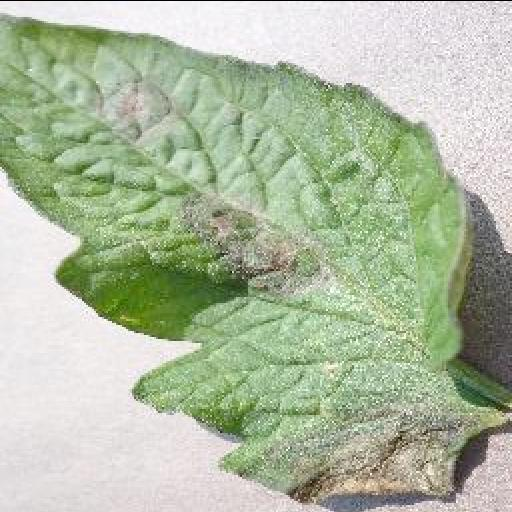disease_tomato: (0, 10, 482, 508)
